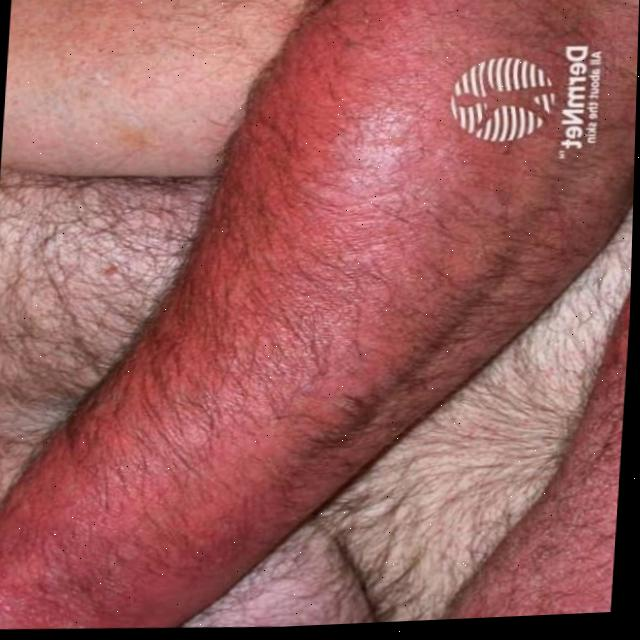Eczema: (183, 58, 509, 483)
